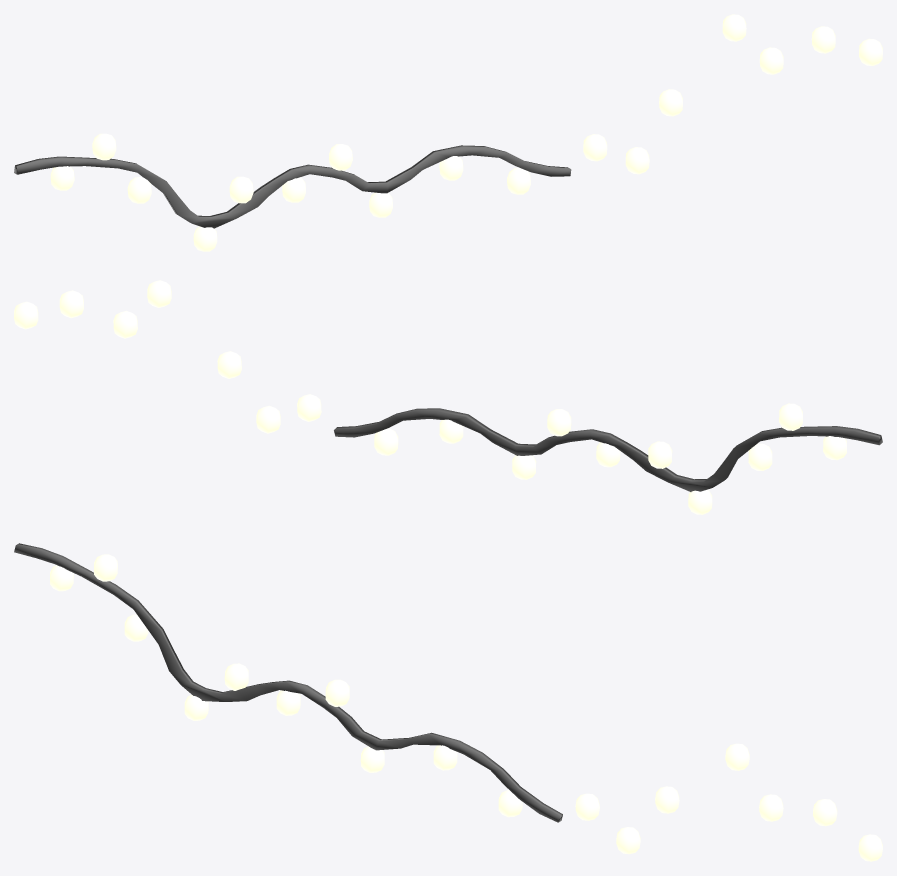
The model's file is luces salon.fbx.
The picture shows the model from 3 angles, top to bottom: view 1: azimuth 30°, elevation 25°; view 2: azimuth 150°, elevation 25°; view 3: azimuth 330°, elevation 25°; orthographic projection.
Visible parts, largest first — view 1: Sphere.019, Plane.009; view 2: Sphere.019, Plane.009; view 3: Sphere.019, Plane.009.
Boxes of the visible parts, x1=… form: Sphere.019: x1=50, y1=14, x2=882, y2=251; Plane.009: x1=14, y1=145, x2=571, y2=228; Sphere.019: x1=14, y1=280, x2=846, y2=514; Plane.009: x1=334, y1=408, x2=882, y2=491; Sphere.019: x1=50, y1=554, x2=882, y2=861; Plane.009: x1=14, y1=543, x2=562, y2=822.
Bounding box in the file's own units: 2067 × 369 × 82.18.
